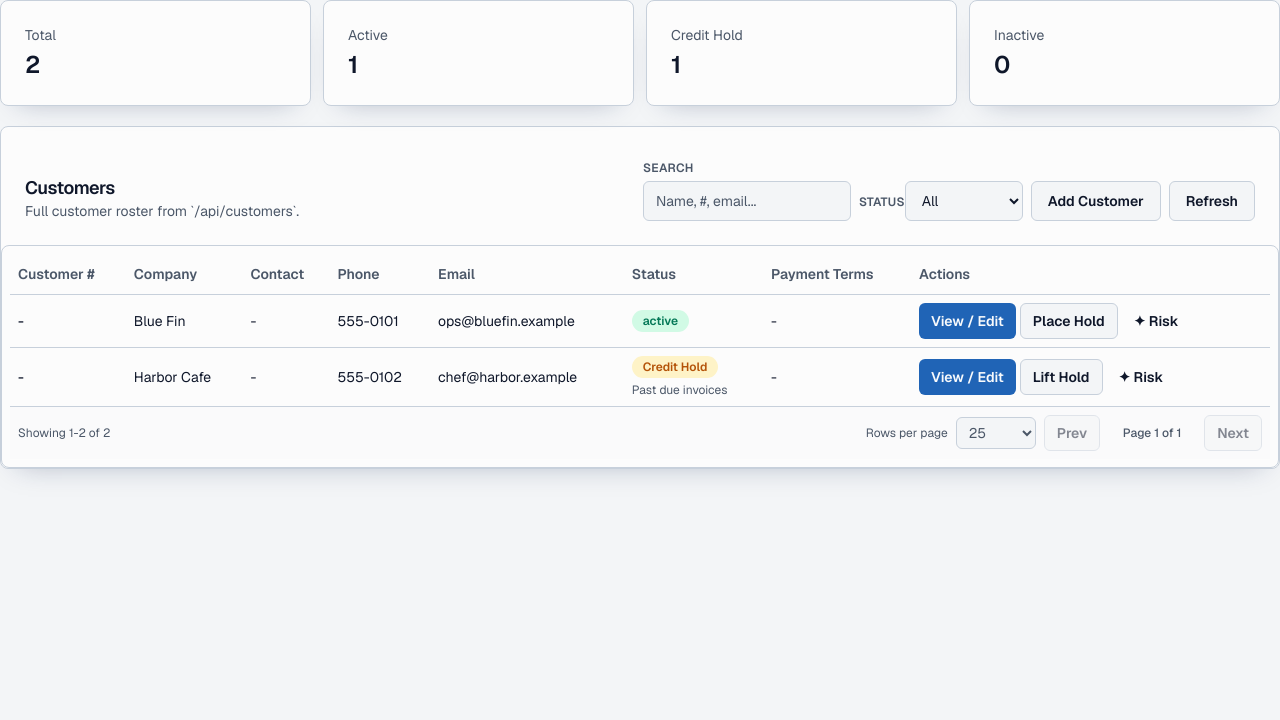
Test: CustomersPage › adds a customer from the customer dashboard and reloads the list
This screenshot has width=1280, height=720.
expect the text "Blue Fin" is shown: met, box [126, 294, 242, 347]
Click the button "Add Customer" at (1096, 201), box [1031, 181, 1161, 221]
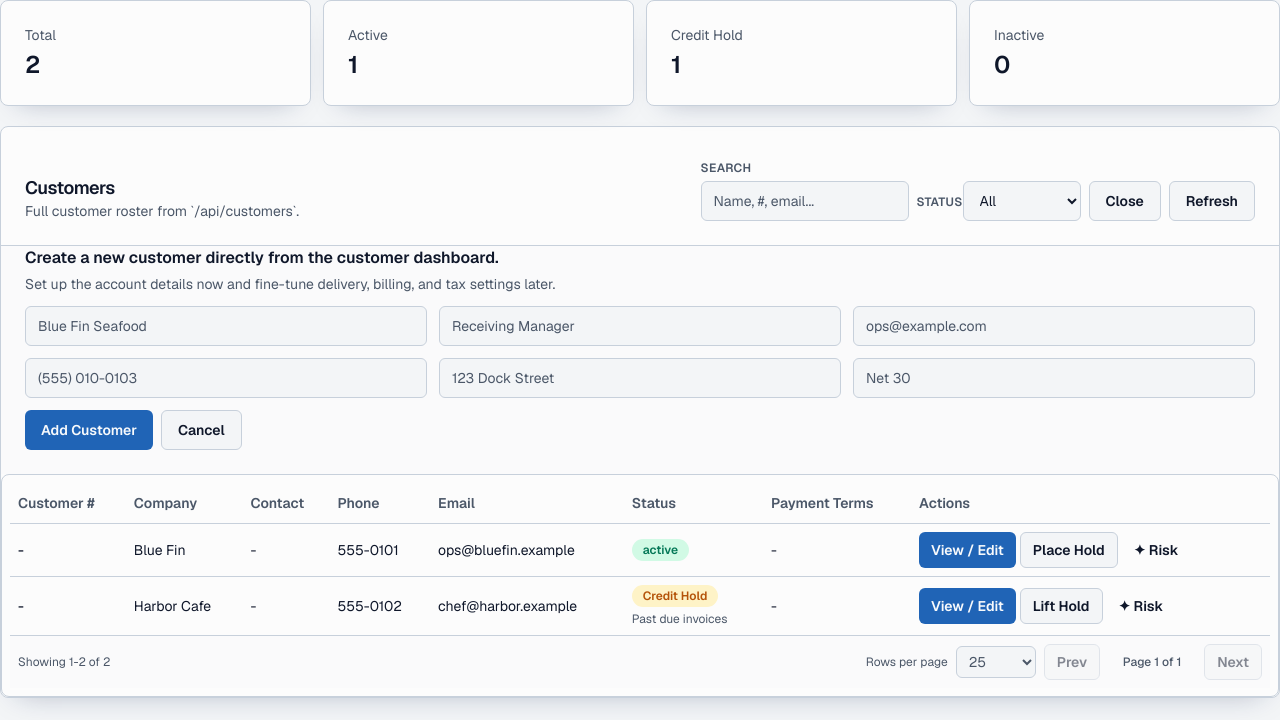
expect the text "Create a new customer directly from the customer dashboard." is shown: met, box [25, 247, 499, 268]
Type "Dockside Market" into the field with placeholder "Blue Fin Seafood" at (226, 326), box [25, 306, 427, 346]
Type "Jamie Smith" into the field with placeholder "Receiving Manager" at (640, 326), box [439, 306, 841, 346]
Type "dockside@example.com" into the field with placeholder "ops@example.com" at (1054, 326), box [853, 306, 1255, 346]
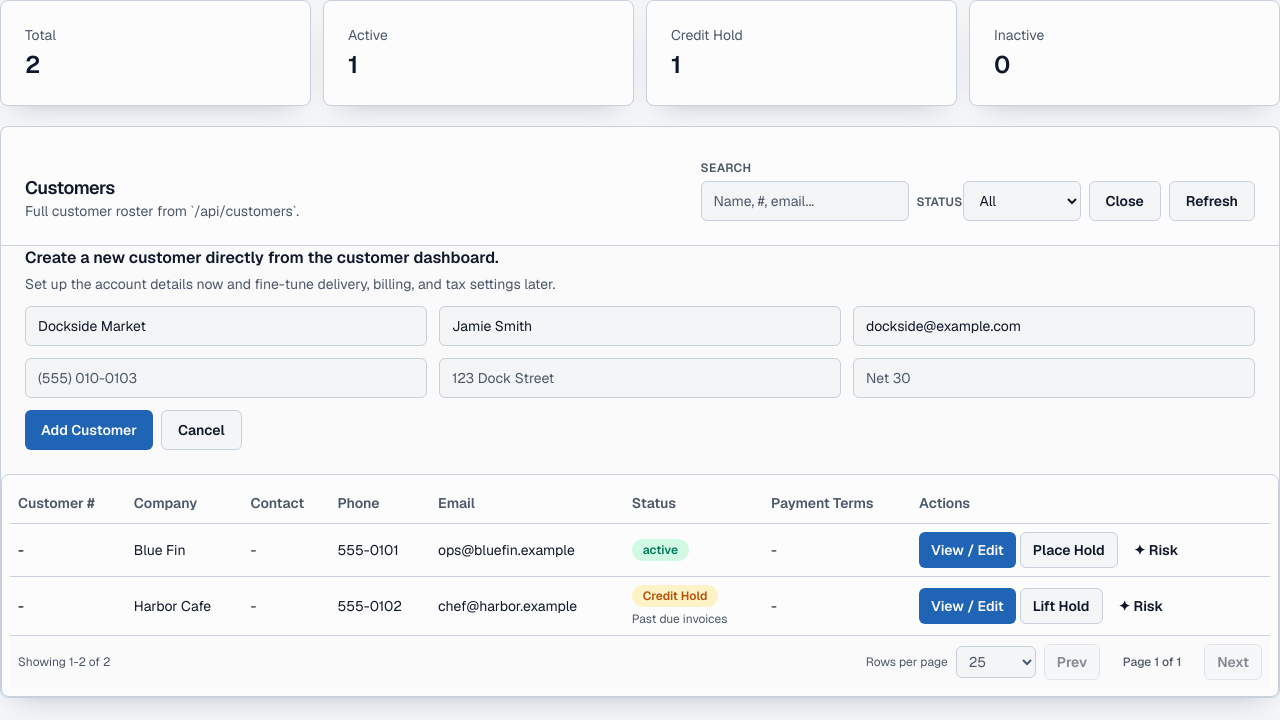
Type "555-0199" into the field with placeholder "(555) 010-0103" at (226, 378), box [25, 358, 427, 398]
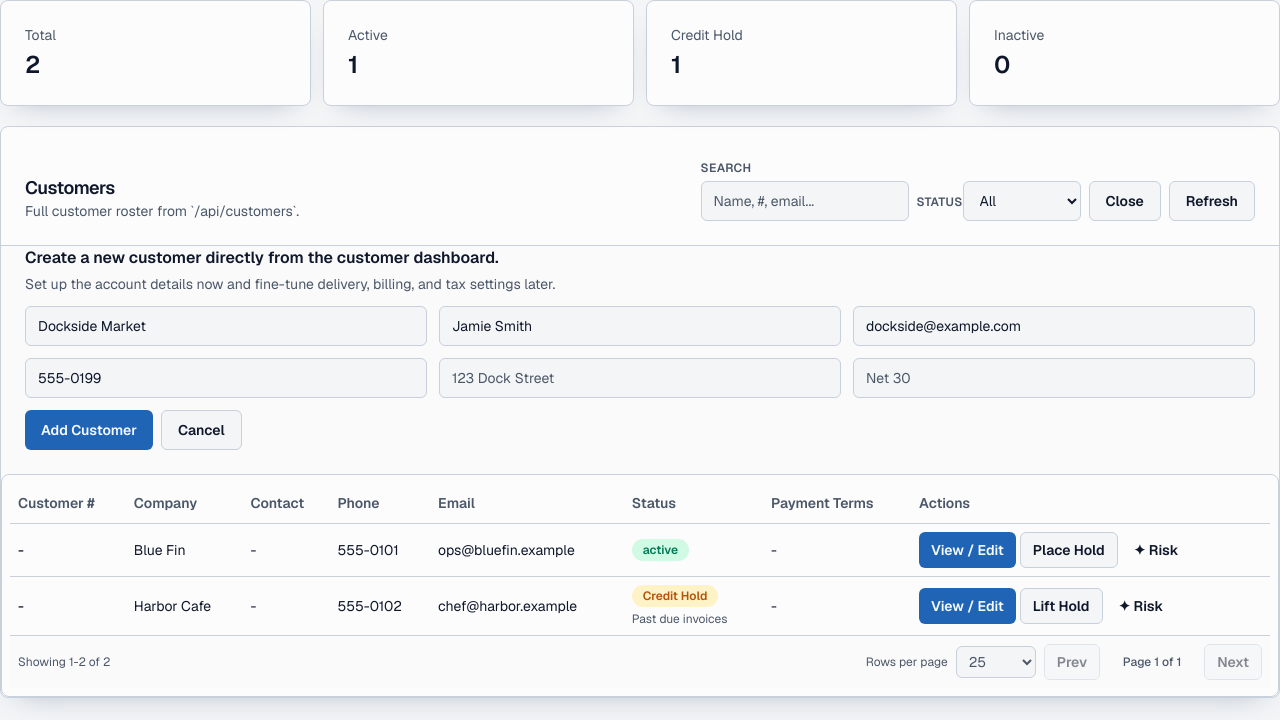
Type "99 Harbor Way" into the field with placeholder "123 Dock Street" at (640, 378), box [439, 358, 841, 398]
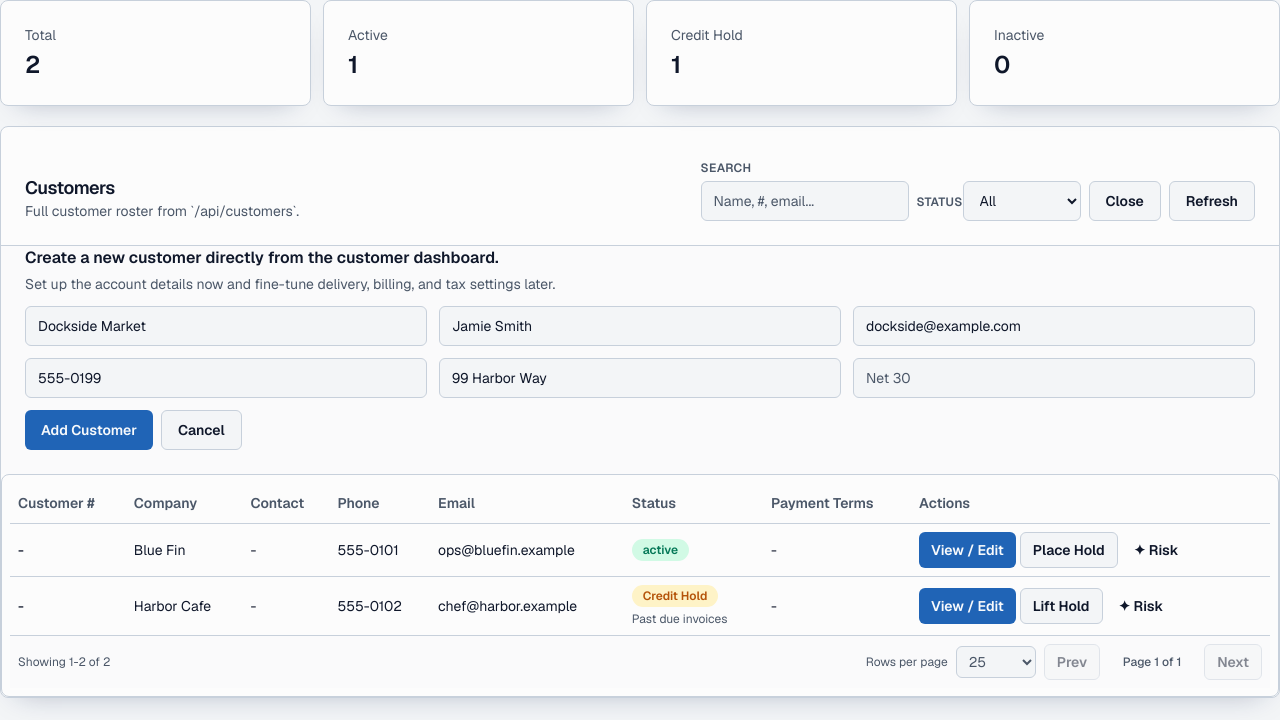
Type "Net 15" into the field with placeholder "Net 30" at (1054, 378), box [853, 358, 1255, 398]
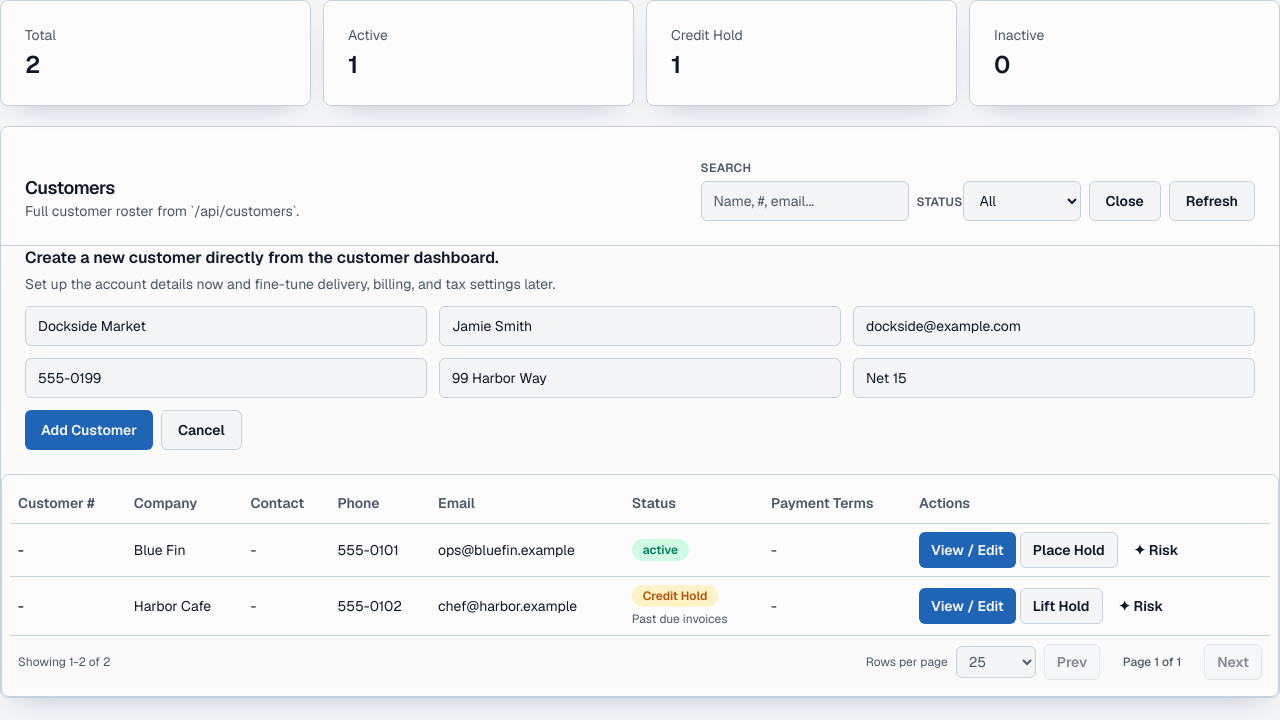
Click the button "Add Customer" at (89, 430), box [25, 410, 153, 450]
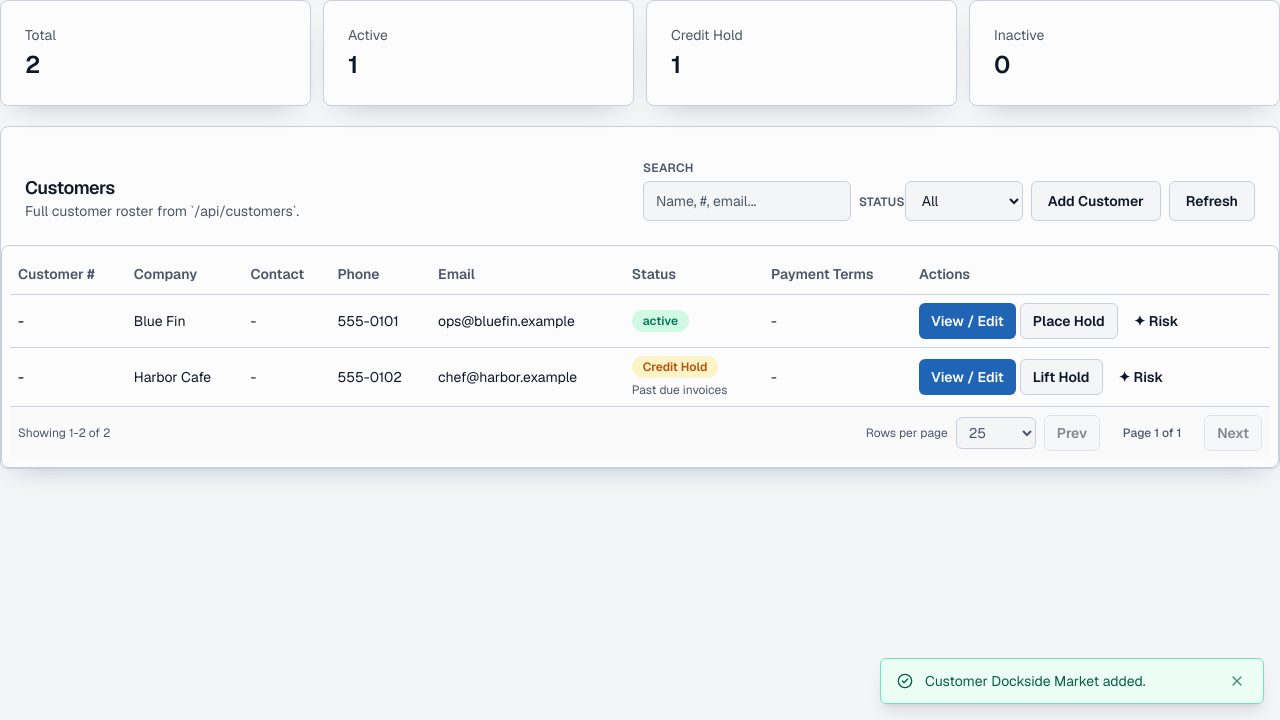
expect the text "Customer Dockside Market added." is shown: met, box [925, 672, 1146, 690]
